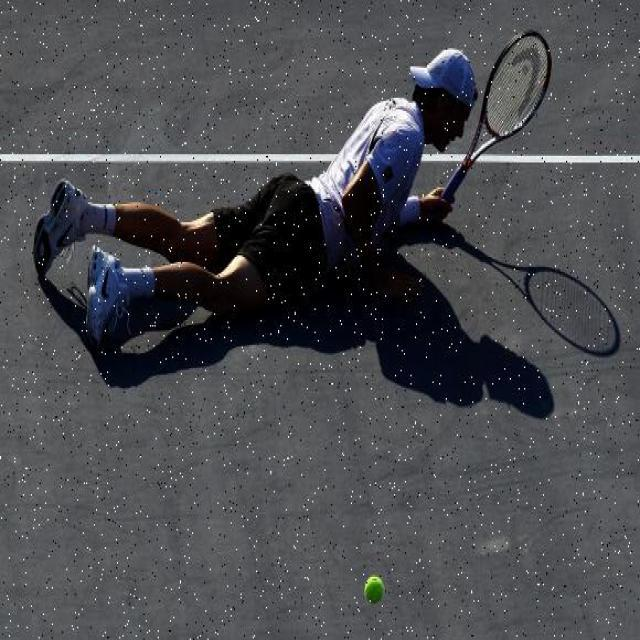fall: (44, 55, 476, 345)
